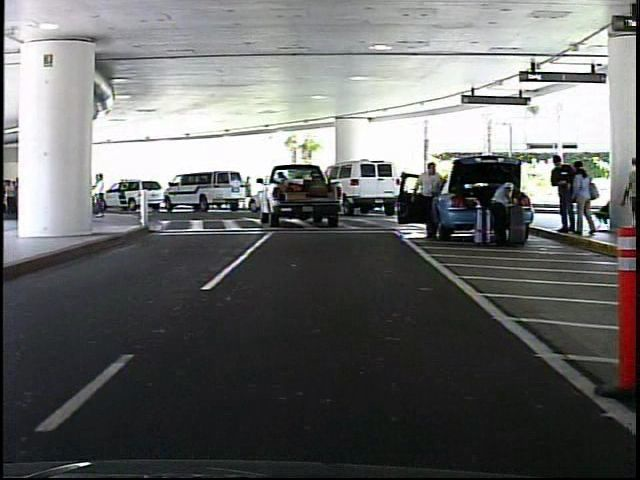person: (409, 160, 447, 241), (484, 171, 522, 249), (568, 158, 597, 238), (549, 152, 575, 238), (619, 155, 640, 236), (242, 174, 256, 211)
